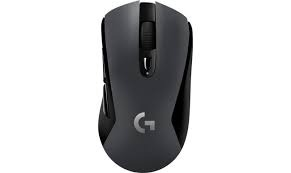mouse: (97, 0, 204, 173)
